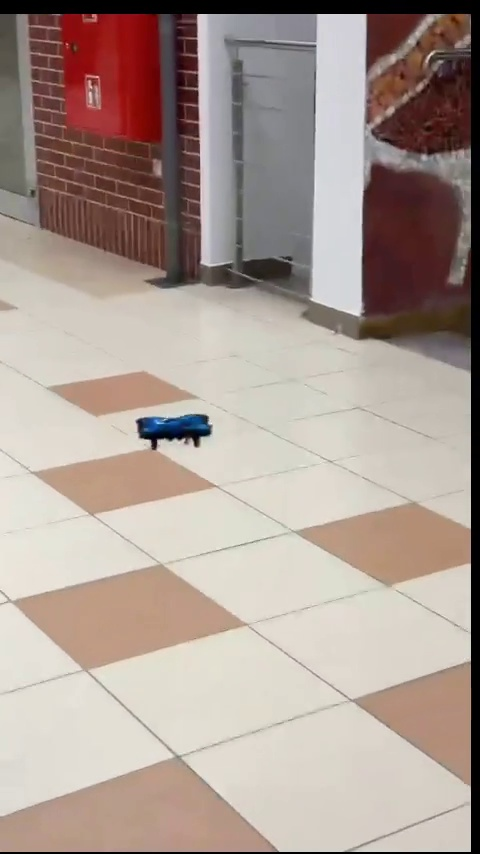drone: (143, 417, 209, 452)
